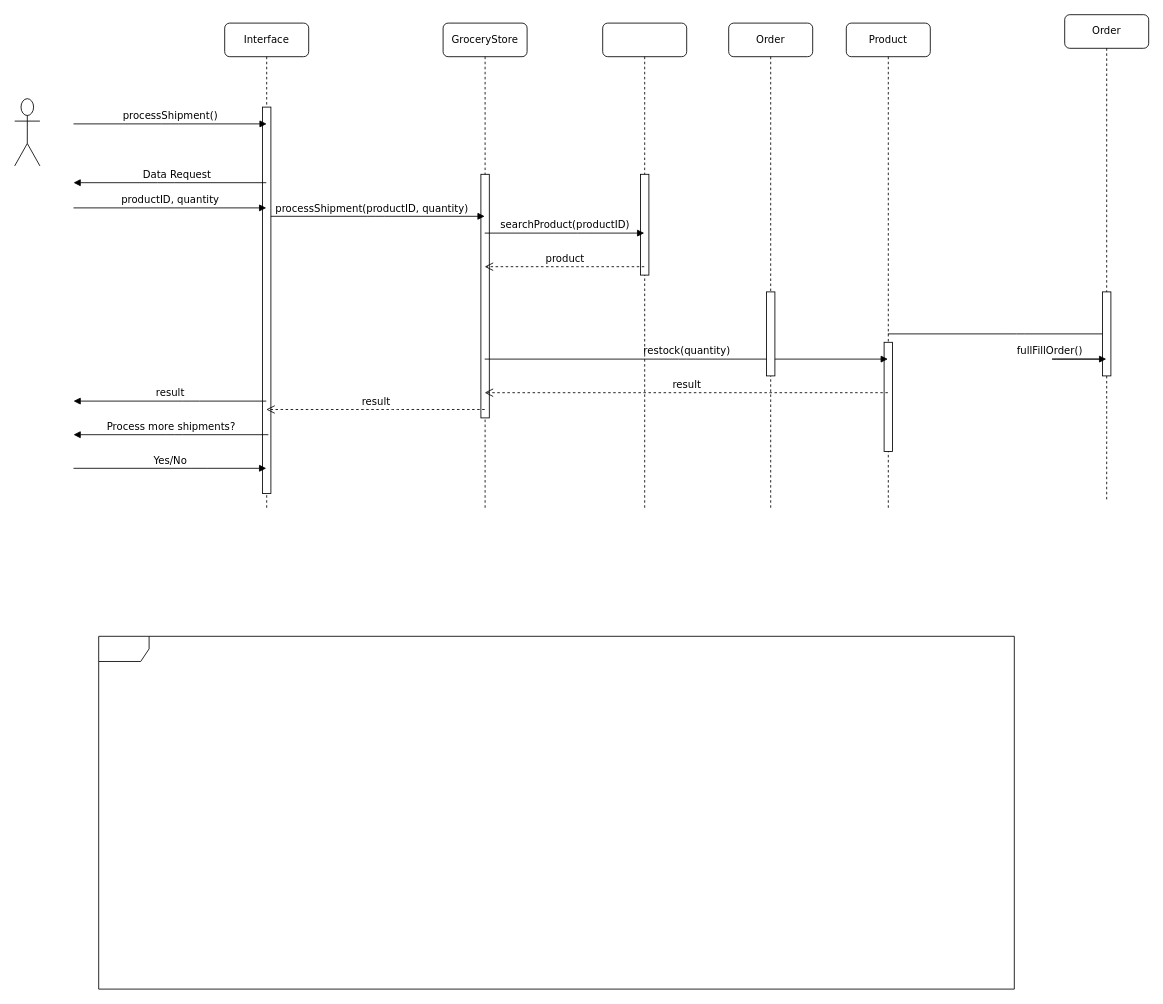
Image size: 1163x1004. Some labels were removed from this diagram. The shapes that lost their labels are listed below. From the top down, each one's box as (x1, y1, x2, y2) in pixels, then its label:
(14, 98, 40, 166): Actor
(602, 22, 687, 510): Inventory
(98, 635, 1014, 989): loop
